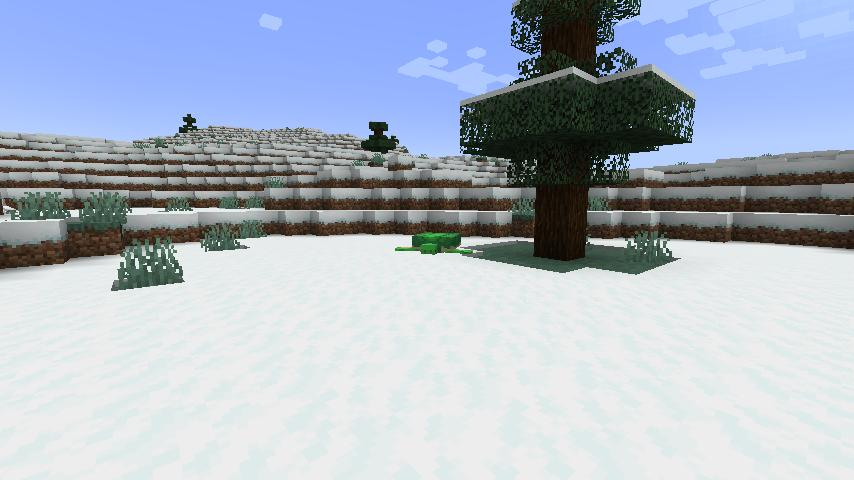turtle: (393, 227, 474, 261)
